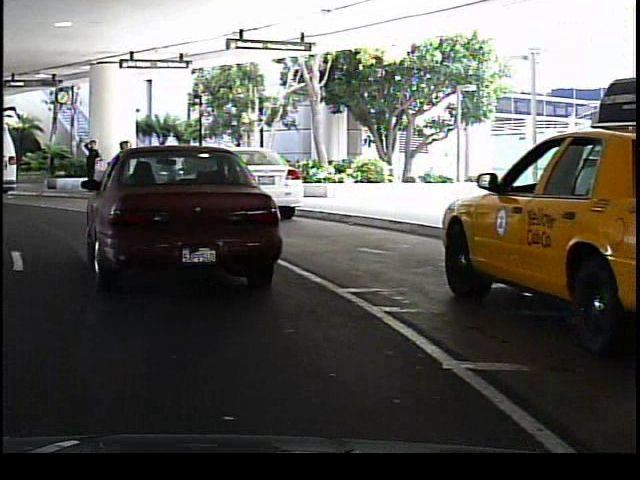person: (75, 138, 99, 195), (160, 144, 187, 194), (112, 139, 136, 194)
